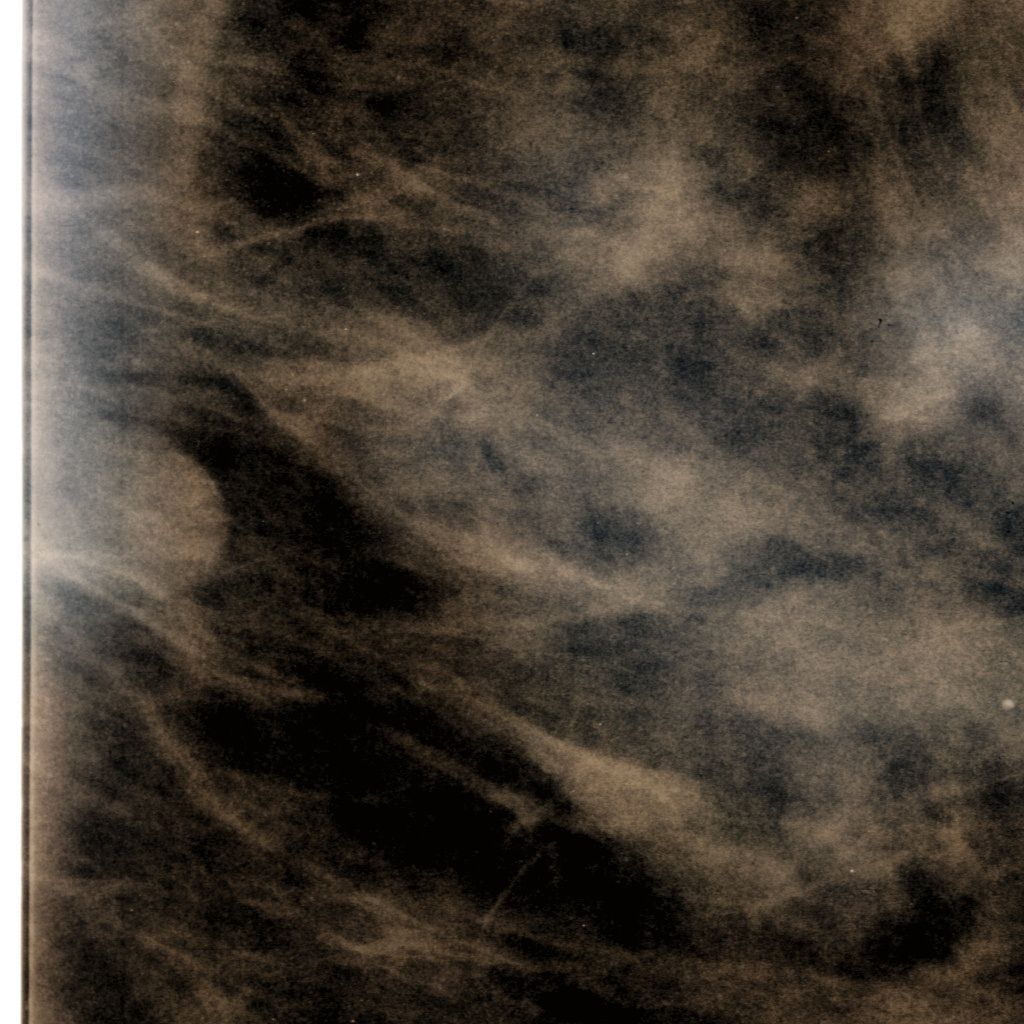tumor: (0, 380, 234, 644)
